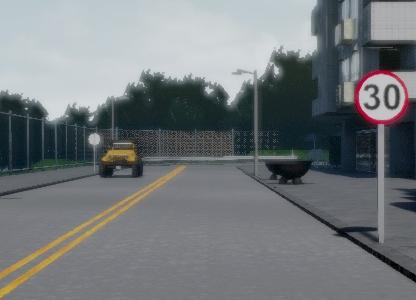Speed_30: (351, 65, 411, 127)
